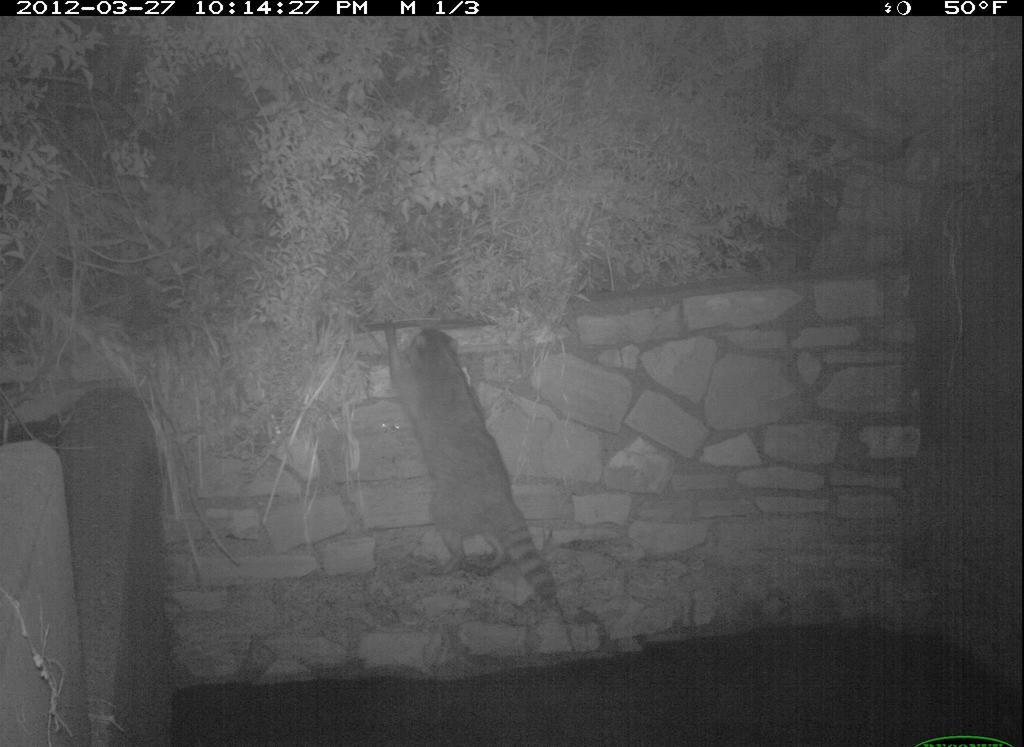raccoon: (376, 315, 578, 611)
